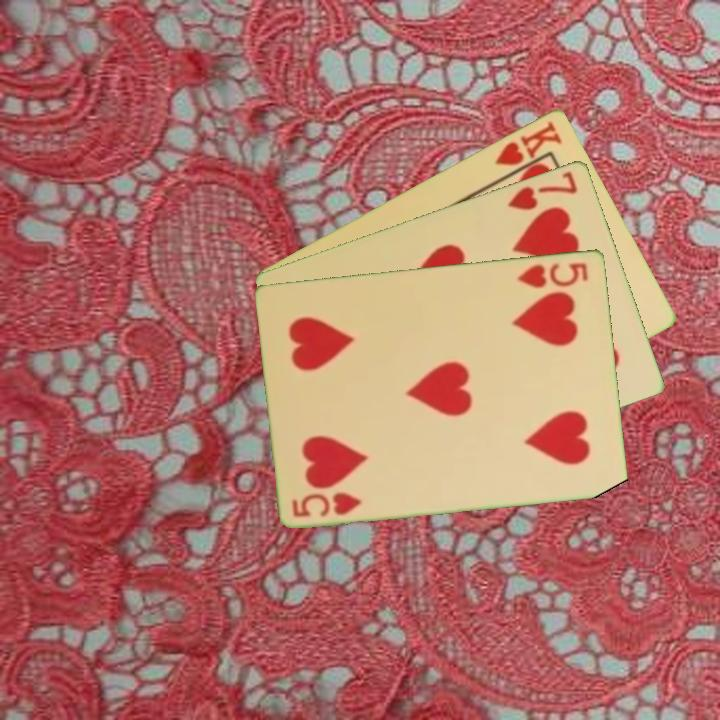5h: (513, 258, 591, 291), (289, 488, 365, 520)
7h: (504, 167, 581, 213)
Kh: (491, 117, 566, 182)
